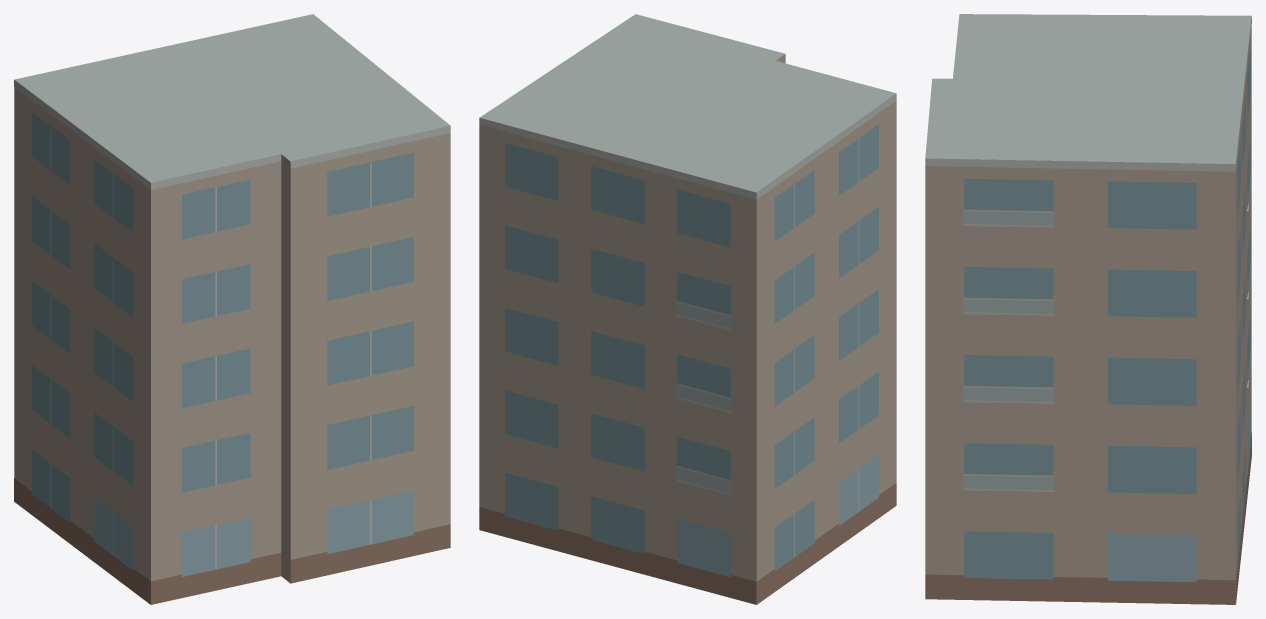
File: survey-upis-32696327.glb
3 views of the same model, side by side, from view 1: azimuth 30°, elevation 25°; view 2: azimuth 150°, elevation 25°; view 3: azimuth 270°, elevation 25° (orthographic). The views are drawn at different scales.
Parts seen in each view (by area): view 1: survey-upis-32696327.tmp; view 2: survey-upis-32696327.tmp; view 3: survey-upis-32696327.tmp.
Part boxes in pixels (<box>): survey-upis-32696327.tmp: <box>14,14,450,604</box>; survey-upis-32696327.tmp: <box>479,14,896,604</box>; survey-upis-32696327.tmp: <box>925,14,1251,604</box>.
Bounding box in the file's own units: 10.39 × 14.2 × 9.54.
